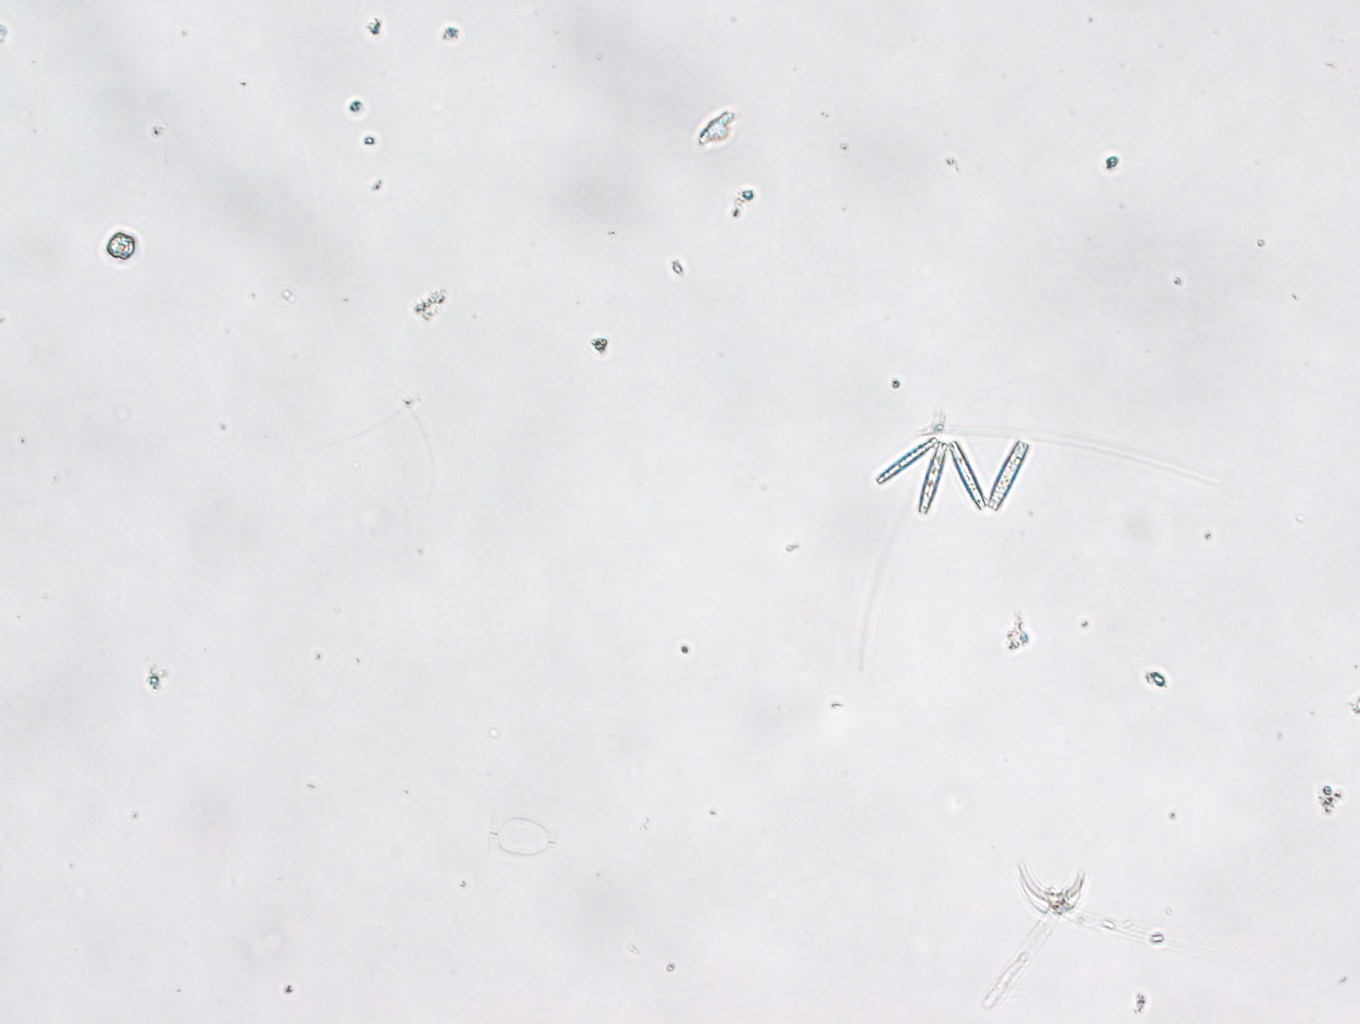thalassionema nitzschioides: (876, 436, 1030, 513)
